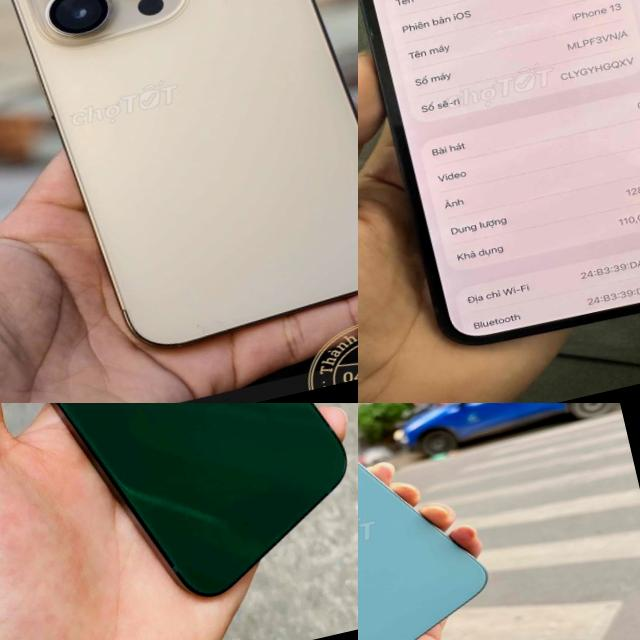gen_12_13: (358, 0, 640, 365), (0, 403, 358, 640)
gen_14: (0, 0, 358, 372)
gen_16: (358, 461, 486, 640)
